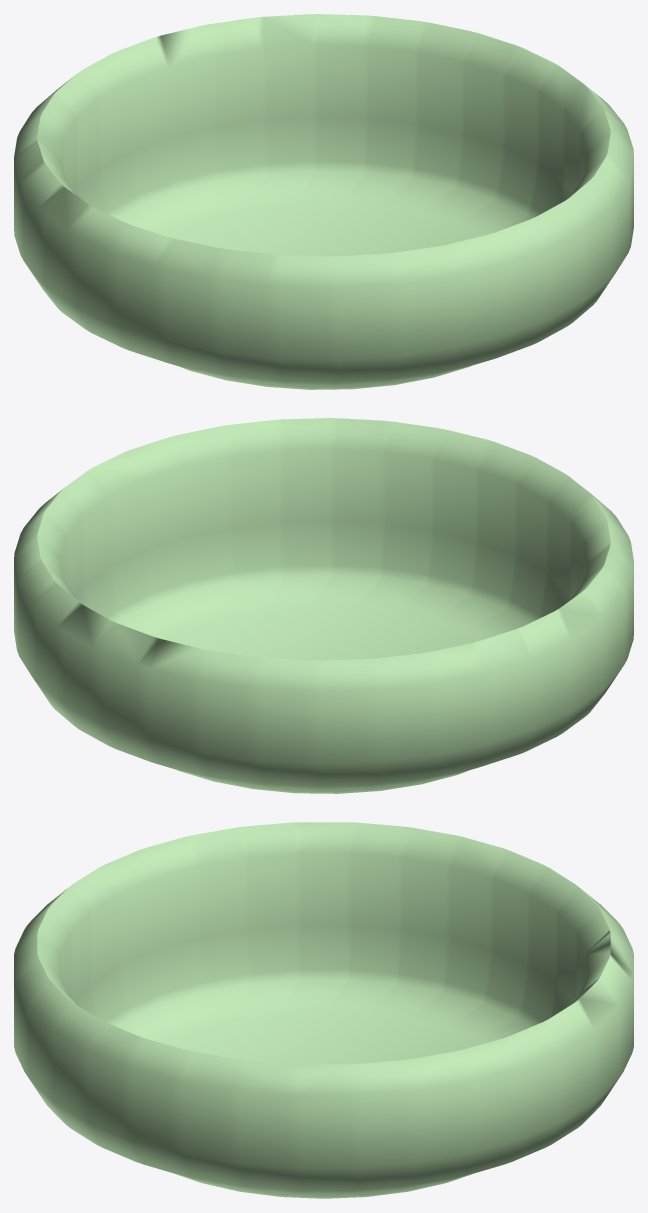
The model's file is Bowl1.fbx.
3 renders of one model, top to bottom at view 1: azimuth 30°, elevation 25°; view 2: azimuth 150°, elevation 25°; view 3: azimuth 270°, elevation 25°, orthographic.
Parts seen in each view (by area): view 1: Bowl1; view 2: Bowl1; view 3: Bowl1.
Boxes of the visible parts, <box> form: Bowl1: <box>14,14,633,389</box>; Bowl1: <box>14,418,633,793</box>; Bowl1: <box>14,822,633,1198</box>.
Size of the model in its own units: 40.56 by 11.71 by 40.56.
